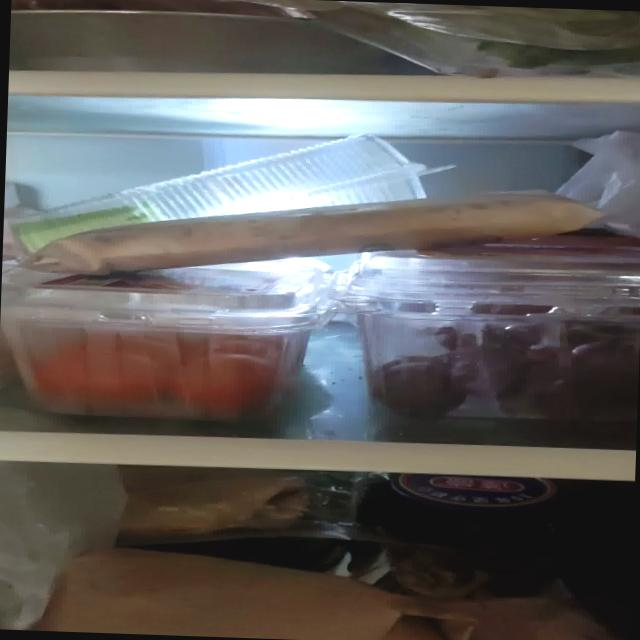grape: (367, 300, 640, 424)
tempeh: (24, 172, 602, 292)
